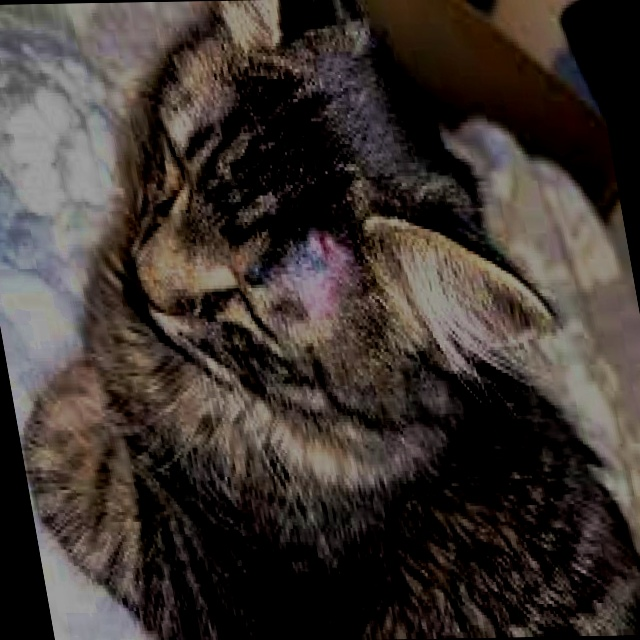ringworm: (264, 218, 374, 351)
